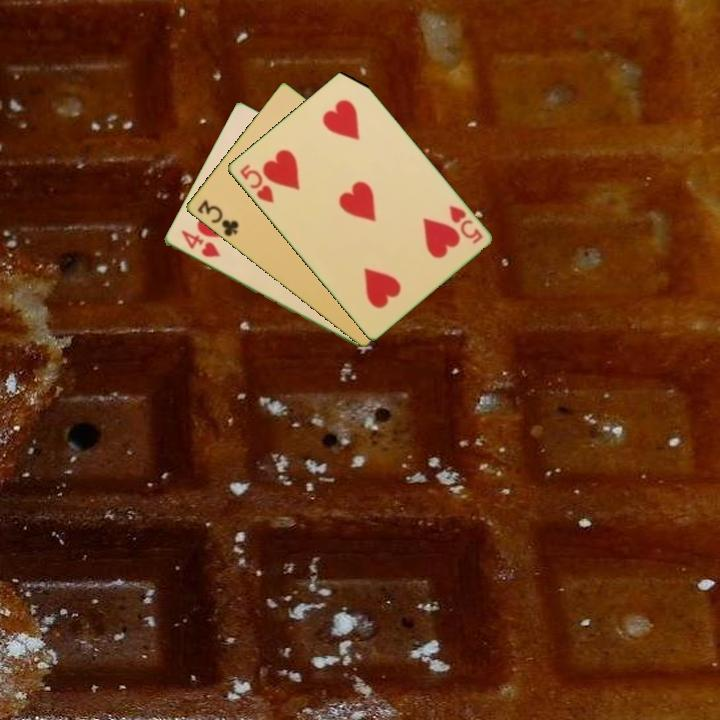3c: (193, 196, 241, 240)
4h: (177, 226, 223, 260)
5h: (236, 160, 277, 206), (445, 201, 485, 247)
